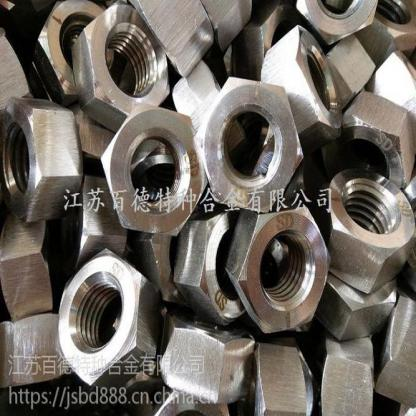FOD: (222, 198, 336, 338), (54, 245, 159, 396), (195, 73, 304, 214), (100, 104, 206, 240), (320, 164, 416, 299), (76, 2, 174, 124), (0, 92, 82, 226), (262, 21, 344, 147), (170, 209, 253, 330)
